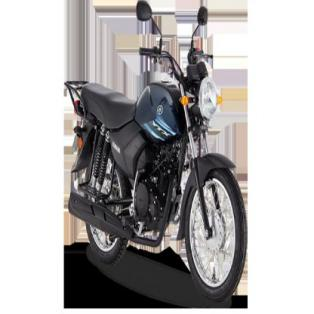Motocicleta: (62, 0, 250, 303)
